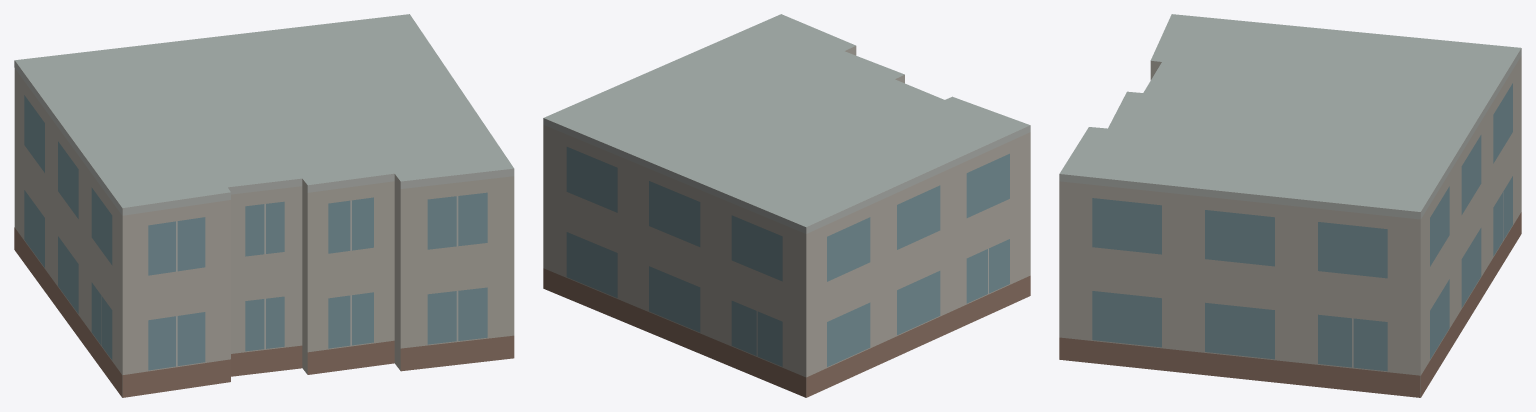
File: survey-upis-32820244.glb
3 views of the same model, side by side, from view 1: azimuth 30°, elevation 25°; view 2: azimuth 150°, elevation 25°; view 3: azimuth 270°, elevation 25° (orthographic). The views are drawn at different scales.
Visible parts, largest first — view 1: survey-upis-32820244.tmp; view 2: survey-upis-32820244.tmp; view 3: survey-upis-32820244.tmp.
Boxes of the visible parts, x1,y1,x2,y2 form: survey-upis-32820244.tmp: (14, 14, 514, 397); survey-upis-32820244.tmp: (543, 14, 1030, 397); survey-upis-32820244.tmp: (1059, 14, 1521, 397).
Size of the model in its own units: 13.96 by 6.1 by 13.77.
